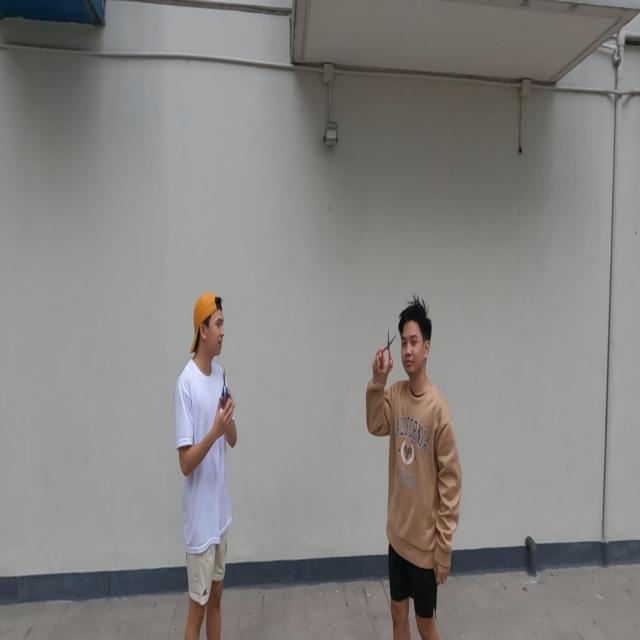scissor: (377, 328, 396, 373), (220, 368, 232, 408)
